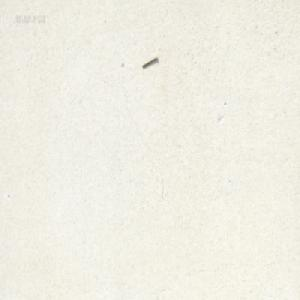Bolt: (141, 55, 158, 67)
